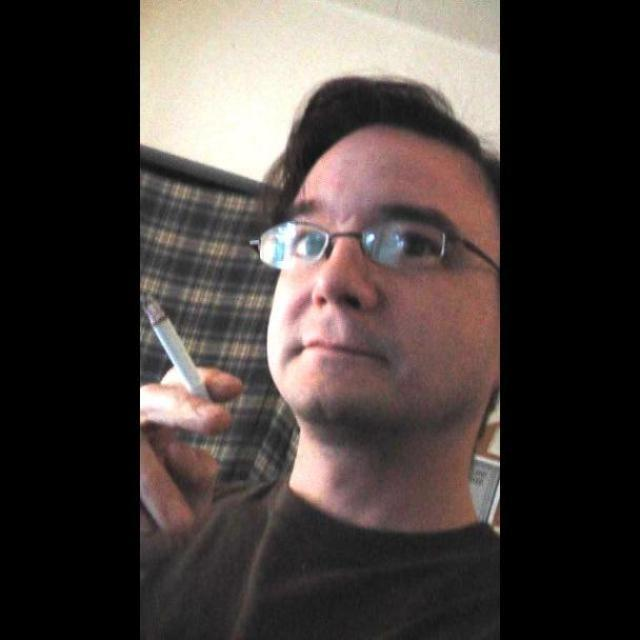rokok: (140, 286, 220, 422)
